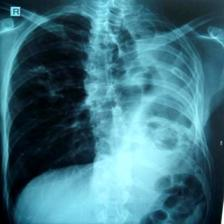tuberculosis: (2, 7, 212, 224)
